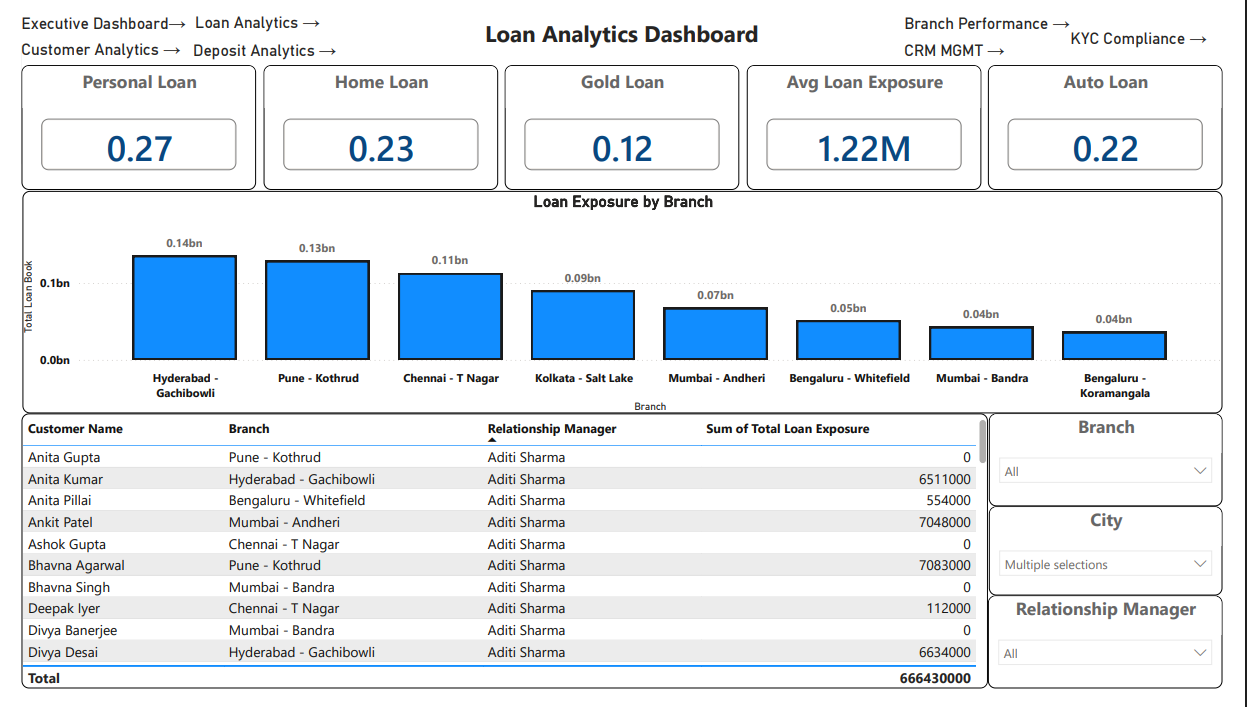

Layout of this report page (visuals, bound fields, positions):
{"tool":"powerbi","page":{"name":"Loan Analytics","canvas":[1280,720],"ordinal":2},"visuals":[{"type":"textbox","box":[382,0,516,56.3],"z":0},{"type":"cardVisual","title":"Personal Loan","fields":{"Data":["Loan Mesures.Personal Loan Penetration"]},"box":[0,55.7,250,133],"z":1000},{"type":"cardVisual","title":"Gold Loan","fields":{"Data":["Loan Mesures.Gold Loan Penetration"]},"box":[515.4,55.7,250,133],"z":2000},{"type":"cardVisual","title":"Home Loan","fields":{"Data":["Loan Mesures.Home Loan Penetration"]},"box":[257.7,55.7,250,133],"z":3000},{"type":"cardVisual","title":"Auto Loan","fields":{"Data":["Loan Mesures.Auto Loan Penetration"]},"box":[1030,56.3,250,133],"z":4000},{"type":"clusteredColumnChart","title":"Loan Exposure by Branch","fields":{"Category":["Customers.Branch"],"Y":["Mesures.Total Loan Book"]},"box":[1.2,189.5,1279.1,237.2],"z":5000},{"type":"cardVisual","title":"Avg Loan Exposure","fields":{"Data":["Loan Mesures.Average Loan Exposure"]},"box":[773.1,55.7,250,133],"z":6000},{"type":"tableEx","fields":{"Values":["Customers.Customer Name","Customers.Branch","Customers.Relationship Manager","Sum(Customers.Total Loan Exposure)"]},"box":[0,426.8,1029.6,293.5],"z":7000},{"type":"slicer","title":"Branch","fields":{"Values":["Customers.Branch"]},"box":[1030.8,426.8,249.5,99],"z":8000},{"type":"slicer","title":"Relationship Manager","fields":{"Values":["Customers.Relationship Manager"]},"box":[1029.6,621.2,250.7,99],"z":9000},{"type":"slicer","title":"City","fields":{"Values":["Customers.City"]},"box":[1030.8,525.8,249.5,95.4],"z":10000},{"type":"actionButton","title":"Customer Analytics →","box":[0,27.7,177.3,29],"z":11000},{"type":"actionButton","title":"Loan Analytics →","box":[184.6,0,177.3,27.7],"z":12000},{"type":"actionButton","title":"Deposit Analytics →","box":[183.4,29,177.3,29],"z":13000},{"type":"actionButton","title":"Branch Performance →","box":[941,1.2,177.3,29],"z":14000},{"type":"actionButton","title":"CRM MGMT →","box":[941,29,160.5,29],"z":15000},{"type":"actionButton","title":"KYC Compliance →","box":[1118.4,15.7,155.6,29],"z":16000},{"type":"actionButton","title":"Executive Dashboard→","box":[0,1.2,177.3,29],"z":17000}]}

Visuals, with their boxes in screenshot pixels (x1, y1, x2, y2), scaled from the page's 1280x720 canvas onto the 1247x707 screenshot:
textbox: Rect(372, 0, 875, 55)
"Personal Loan" cardVisual: Rect(0, 55, 244, 185)
"Gold Loan" cardVisual: Rect(502, 55, 746, 185)
"Home Loan" cardVisual: Rect(251, 55, 495, 185)
"Auto Loan" cardVisual: Rect(1003, 55, 1246, 186)
"Loan Exposure by Branch" clusteredColumnChart: Rect(1, 186, 1246, 419)
"Avg Loan Exposure" cardVisual: Rect(753, 55, 997, 185)
tableEx - Customers.Customer Name x Customers.Branch: Rect(0, 419, 1003, 706)
"Branch" slicer: Rect(1004, 419, 1246, 516)
"Relationship Manager" slicer: Rect(1003, 610, 1246, 706)
"City" slicer: Rect(1004, 516, 1246, 610)
"Customer Analytics →" actionButton: Rect(0, 27, 173, 56)
"Loan Analytics →" actionButton: Rect(180, 0, 353, 27)
"Deposit Analytics →" actionButton: Rect(179, 28, 351, 57)
"Branch Performance →" actionButton: Rect(917, 1, 1089, 30)
"CRM MGMT →" actionButton: Rect(917, 28, 1073, 57)
"KYC Compliance →" actionButton: Rect(1090, 15, 1241, 44)
"Executive Dashboard→" actionButton: Rect(0, 1, 173, 30)
